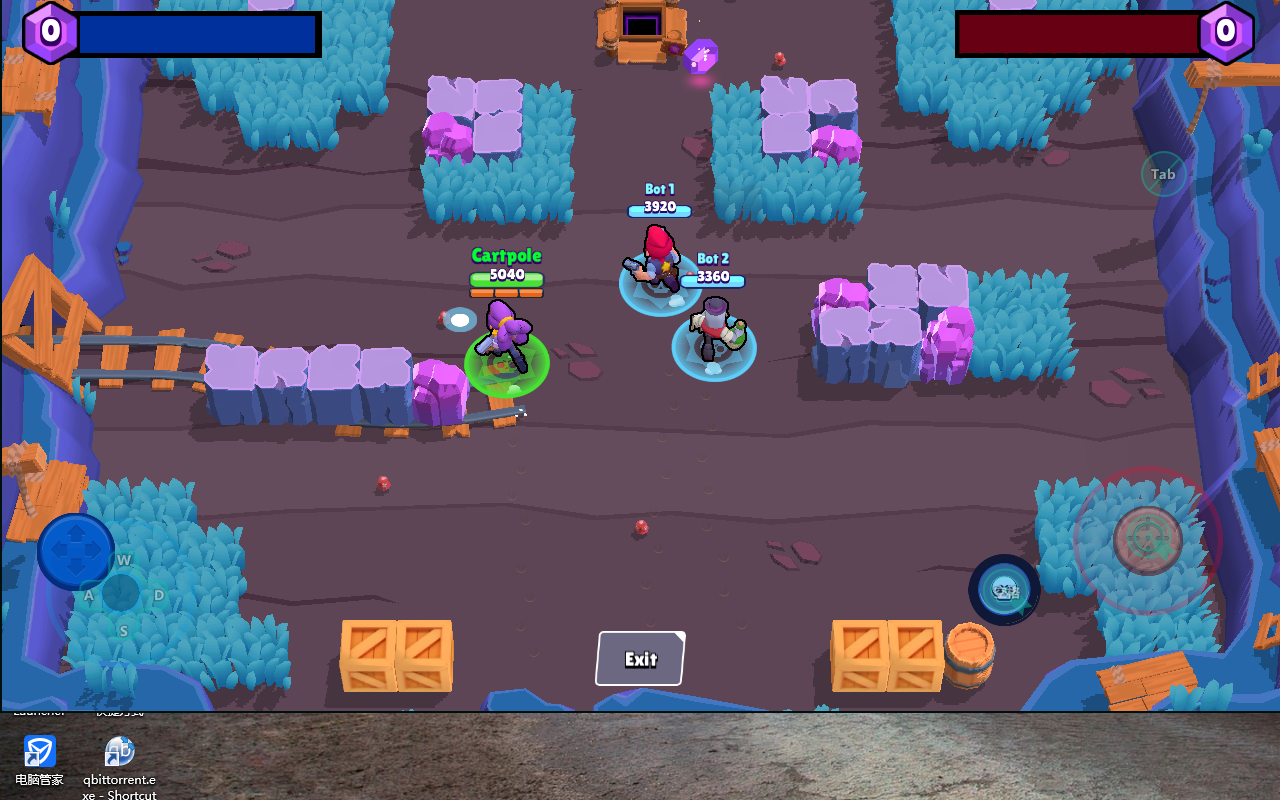current_player: (461, 328, 549, 394)
